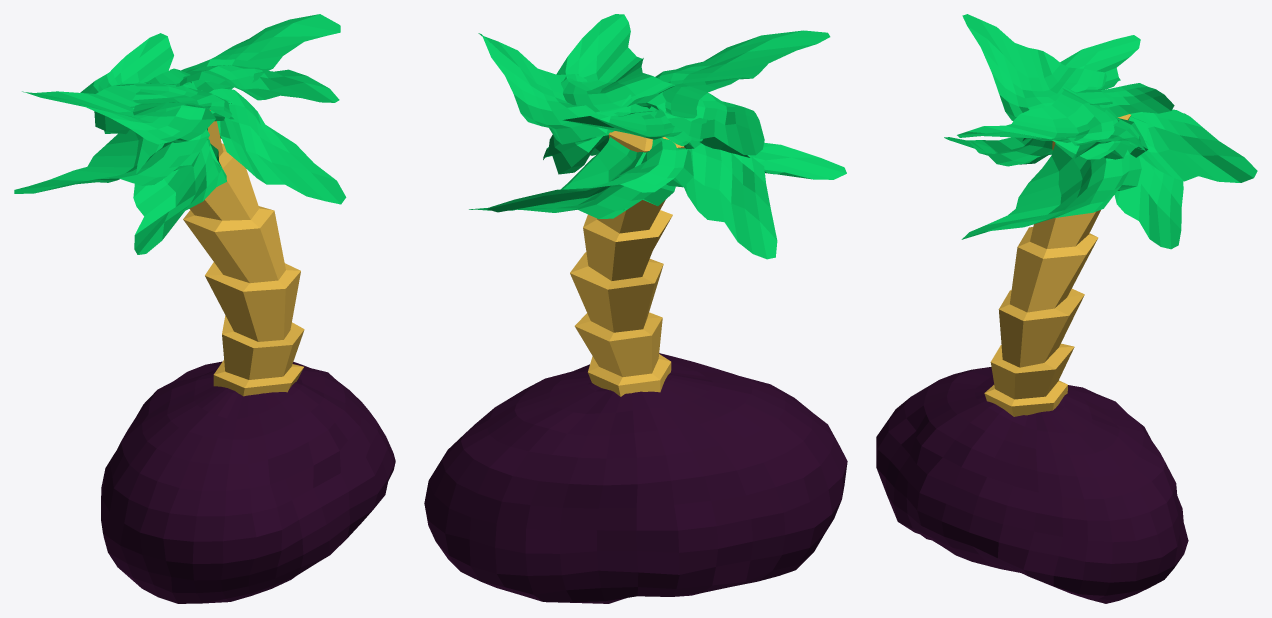
File: Palm tree.fbx
The picture shows the model from 3 angles, left to right: view 1: azimuth 30°, elevation 25°; view 2: azimuth 150°, elevation 25°; view 3: azimuth 270°, elevation 25°; orthographic projection. The views are drawn at different scales.
Parts seen in each view (by area): view 1: Plane.005; view 2: Plane.005; view 3: Plane.005.
Boxes of the visible parts, bbox=[...] form: Plane.005: bbox=[14, 14, 395, 603]; Plane.005: bbox=[424, 14, 847, 603]; Plane.005: bbox=[876, 14, 1257, 603].
Size of the model in its own units: 220 by 320 by 229.
